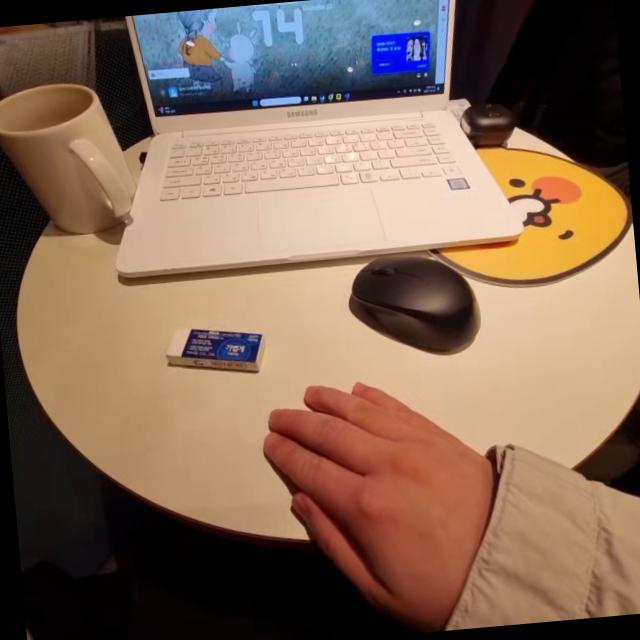eraser: (160, 318, 276, 394)
hand: (246, 357, 534, 627)
mouse: (330, 240, 482, 358)
